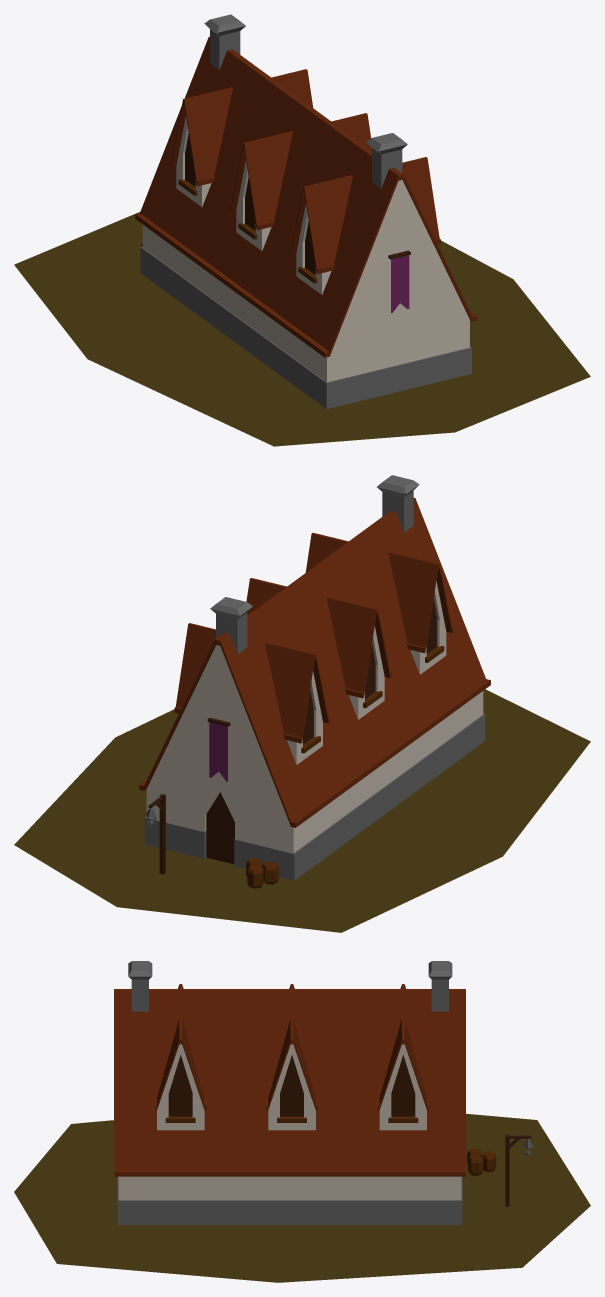
Rendered from Estate1V1.fbx.
The picture shows the model from 3 angles, top to bottom: view 1: azimuth 30°, elevation 25°; view 2: azimuth 150°, elevation 25°; view 3: azimuth 270°, elevation 25°; orthographic projection. The views are drawn at different scales.
Parts seen in each view (by area): view 1: Plane.035; view 2: Plane.035; view 3: Plane.035.
Part boxes in pixels (x1,y1,x2,y2): Plane.035: [14, 14, 590, 446]; Plane.035: [14, 475, 590, 932]; Plane.035: [14, 961, 590, 1282].
Bounding box in the file's own units: 345 × 201 × 463.
